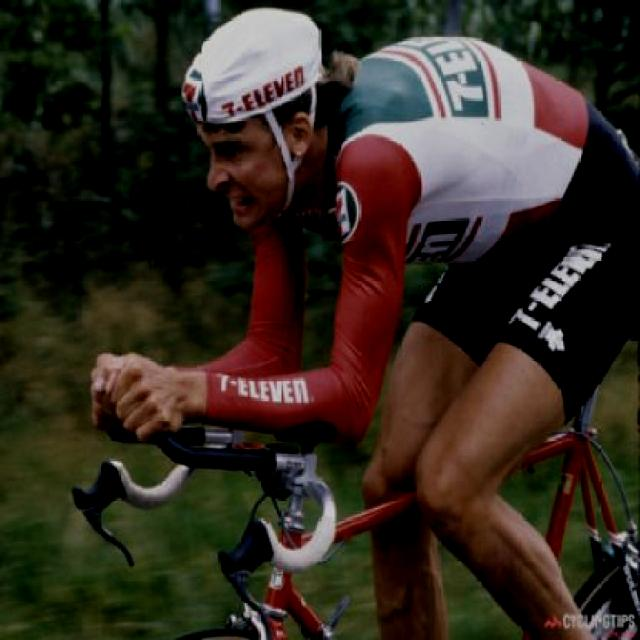With Helmet: (177, 8, 341, 161)
